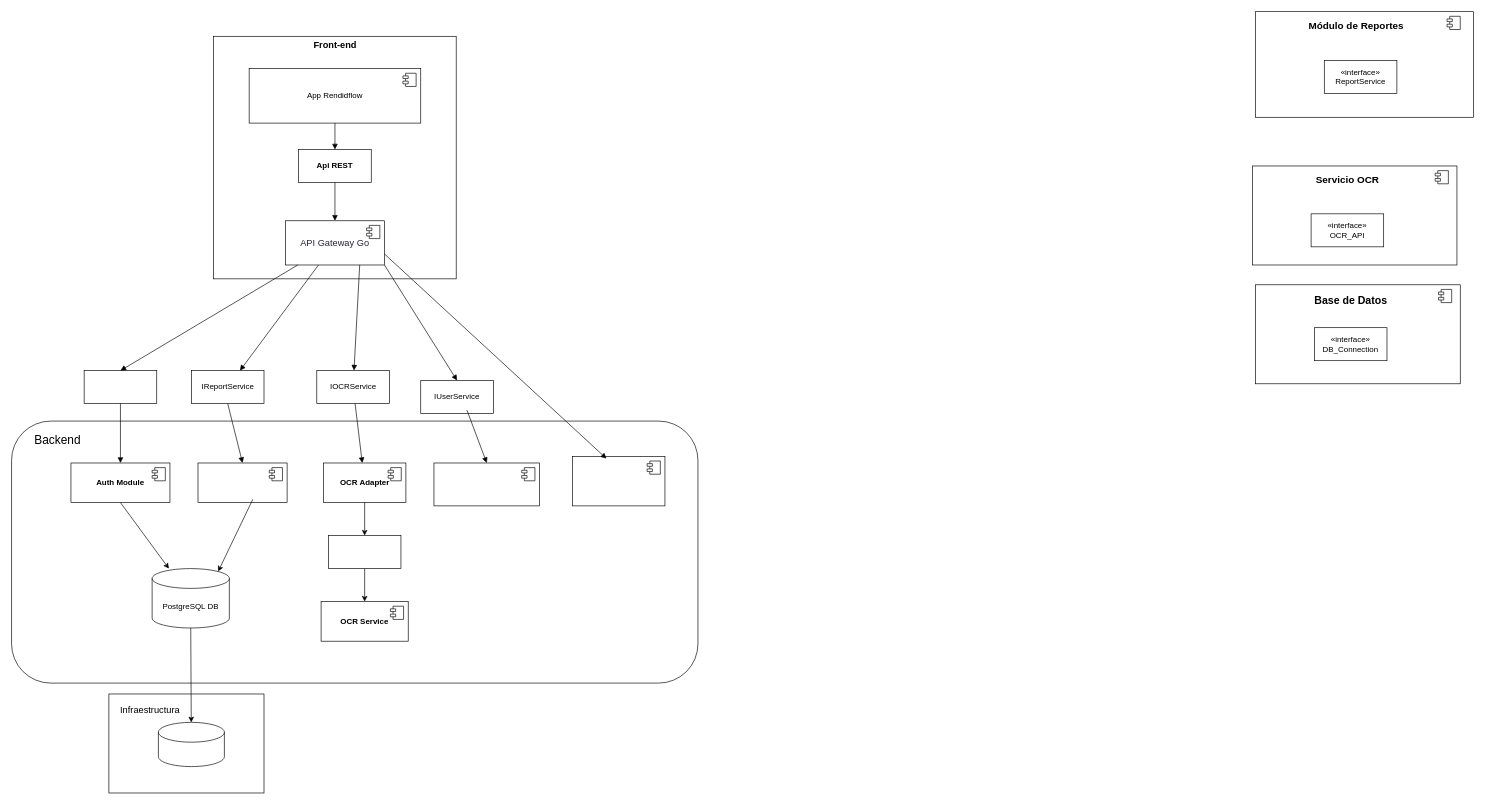
Image size: 1485x805. Some labels were removed from this diagram. The centre of each missing label's shape, as x and y in pixels:
Docker: the point at 191,744
IAuthService: the point at 120,387
Metadata: the point at 364,552
Report Module: the point at 242,482
SuperTokens Cloud: the point at 618,481
User Management: the point at 486,484
